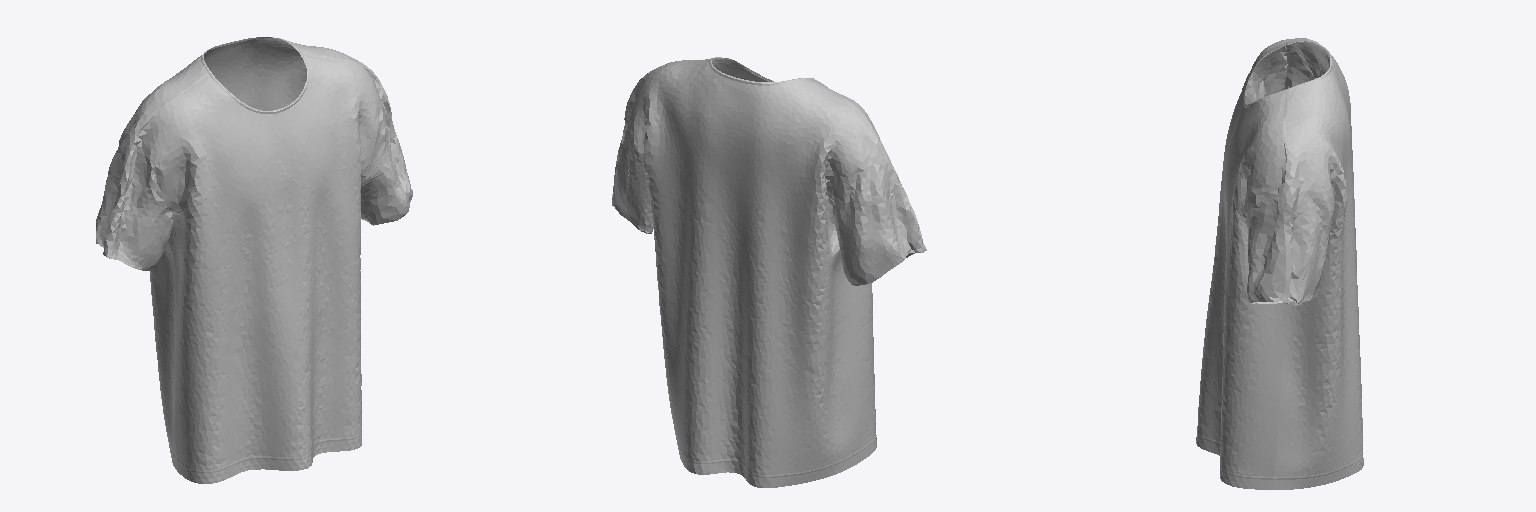
File: Small_Tall.obj
3 views of the same model, side by side, from view 1: azimuth 30°, elevation 25°; view 2: azimuth 150°, elevation 25°; view 3: azimuth 270°, elevation 25° (orthographic).
Parts seen in each view (by area): view 1: 短袖.004; view 2: 短袖.004; view 3: 短袖.004.
Boxes of the visible parts, box(x1,y1,x2,y2) form: 短袖.004: box(96, 37, 412, 483); 短袖.004: box(612, 57, 926, 487); 短袖.004: box(1196, 38, 1363, 489).
Size of the model in its own units: 0.5718 by 0.6963 by 0.2694.